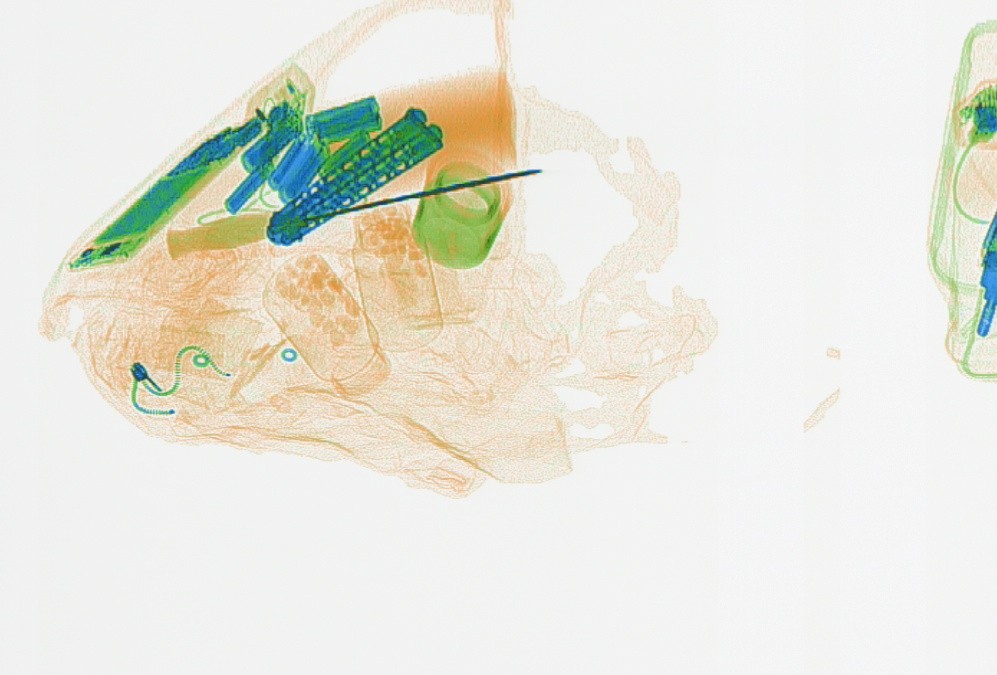knife: (164, 166, 540, 262), (265, 103, 444, 245)
